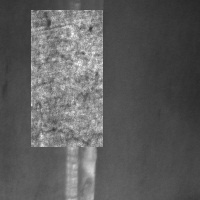crazing: (31, 10, 103, 147)
scratches: (62, 1, 107, 199)
